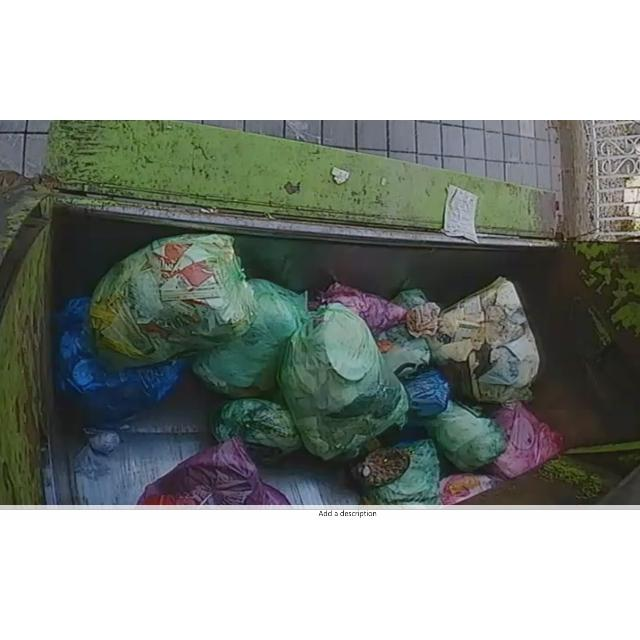general_trashbag: (90, 234, 254, 364), (278, 304, 409, 460), (192, 279, 306, 396), (214, 399, 302, 465), (352, 440, 440, 505), (429, 402, 506, 472)
other_trashbag: (406, 278, 540, 404), (55, 298, 185, 426), (138, 438, 290, 505), (494, 402, 564, 479), (320, 282, 408, 334), (440, 474, 494, 505)
